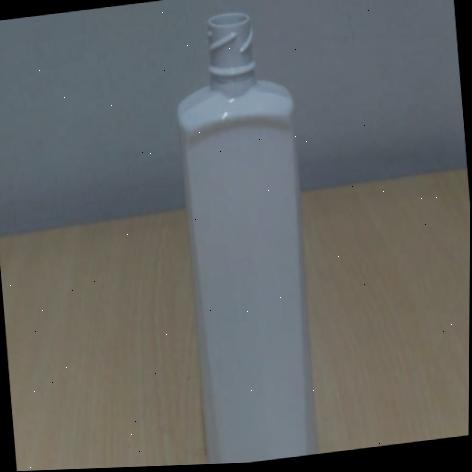bottle: (177, 13, 316, 464)
